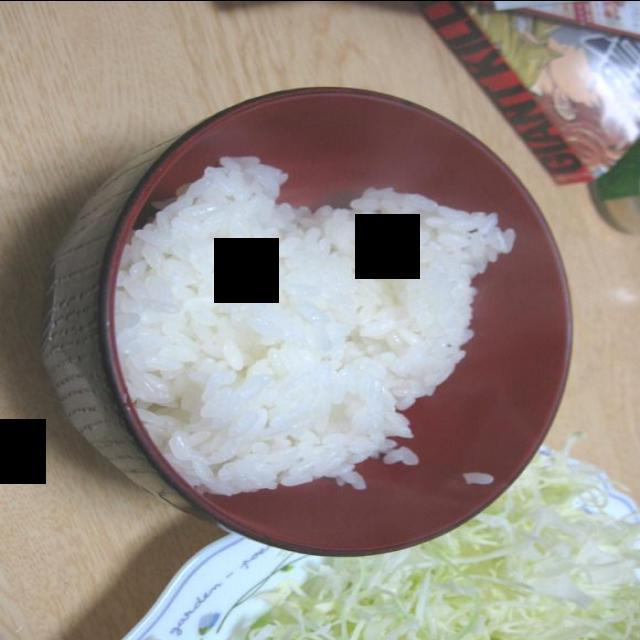rice: (114, 154, 522, 494)
